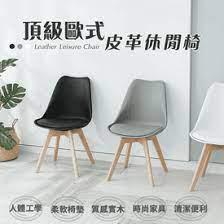chair: (32, 65, 224, 192)
